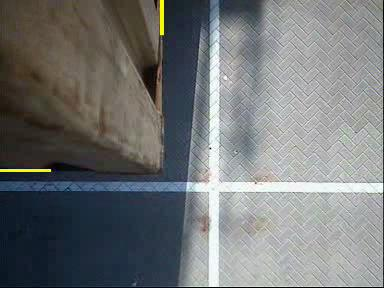groundmarker_2: (186, 11, 254, 115)
